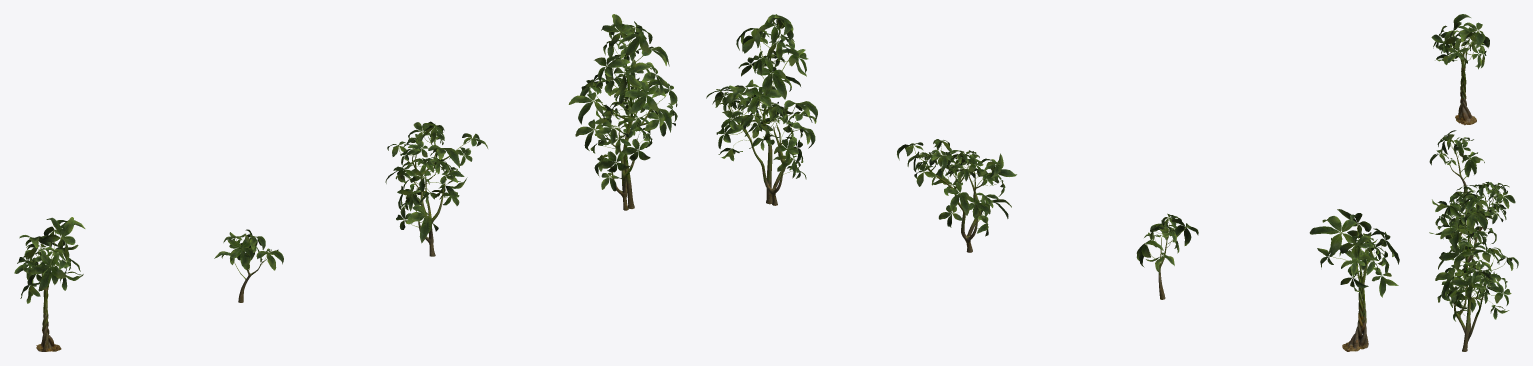
File: pachira_aquatica_01.glb
The picture shows the model from 3 angles, left to right: view 1: azimuth 30°, elevation 25°; view 2: azimuth 150°, elevation 25°; view 3: azimuth 270°, elevation 25°; orthographic projection. The views are drawn at different scales.
Parts seen in each view (by area): view 1: pachira_aquatica_01_leaves_a, pachira_aquatica_01_bark_a; view 2: pachira_aquatica_01_leaves_a, pachira_aquatica_01_bark_a; view 3: pachira_aquatica_01_leaves_a, pachira_aquatica_01_bark_a.
Part boxes in pixels (left/top/right/bottom): pachira_aquatica_01_leaves_a: left=14, top=14, right=677, bottom=303; pachira_aquatica_01_bark_a: left=36, top=44, right=652, bottom=351; pachira_aquatica_01_leaves_a: left=706, top=14, right=1399, bottom=297; pachira_aquatica_01_bark_a: left=728, top=44, right=1368, bottom=351; pachira_aquatica_01_leaves_a: left=1429, top=14, right=1518, bottom=321; pachira_aquatica_01_bark_a: left=1447, top=50, right=1497, bottom=351.
Bounding box in the file's own units: 6.87 × 1.9 × 0.997.
Materials: 2 (2 with a texture image).
